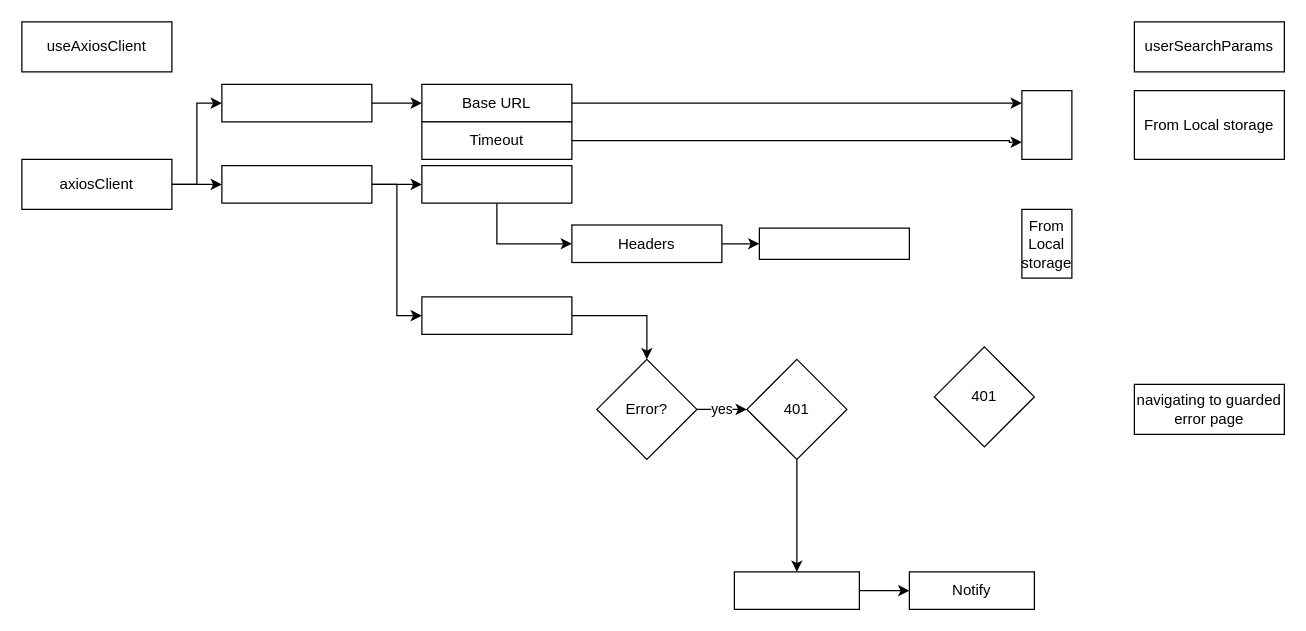
This 1306x631 diagram has some shape labels left out. The box of each missing label's shape, as (x1, y1, x2, y2) in pixels:
After making request: (421, 296, 572, 334)
Authorization: (758, 227, 909, 259)
Base config: (221, 83, 372, 122)
Before making request: (421, 164, 572, 203)
From ENV: (1021, 89, 1072, 159)
Interceptors: (221, 164, 372, 203)
Navigate to login: (733, 571, 859, 609)
